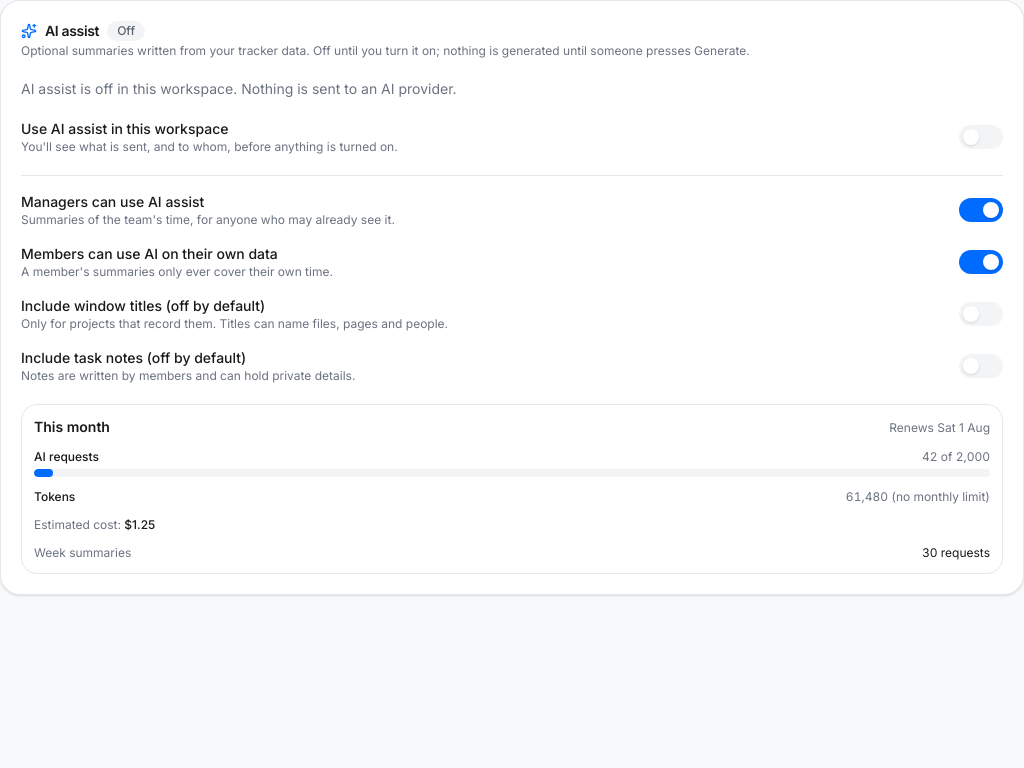
Test: turning AI assist on › saves nothing when the dialog is cancelled
Click the switch named "Use AI assist" in the row of "Use AI assist in this workspace" at (981, 137), box [959,125,1003,149]
(page scrolled)
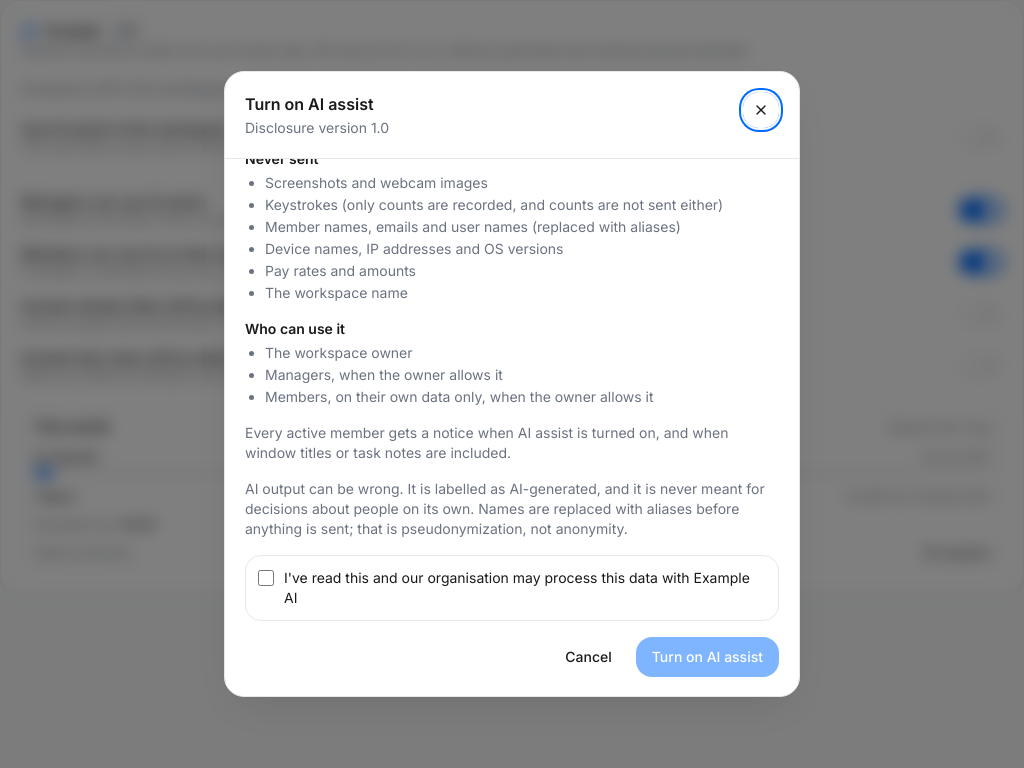
Click the button "Cancel" at (589, 657), box [549,637,628,677]
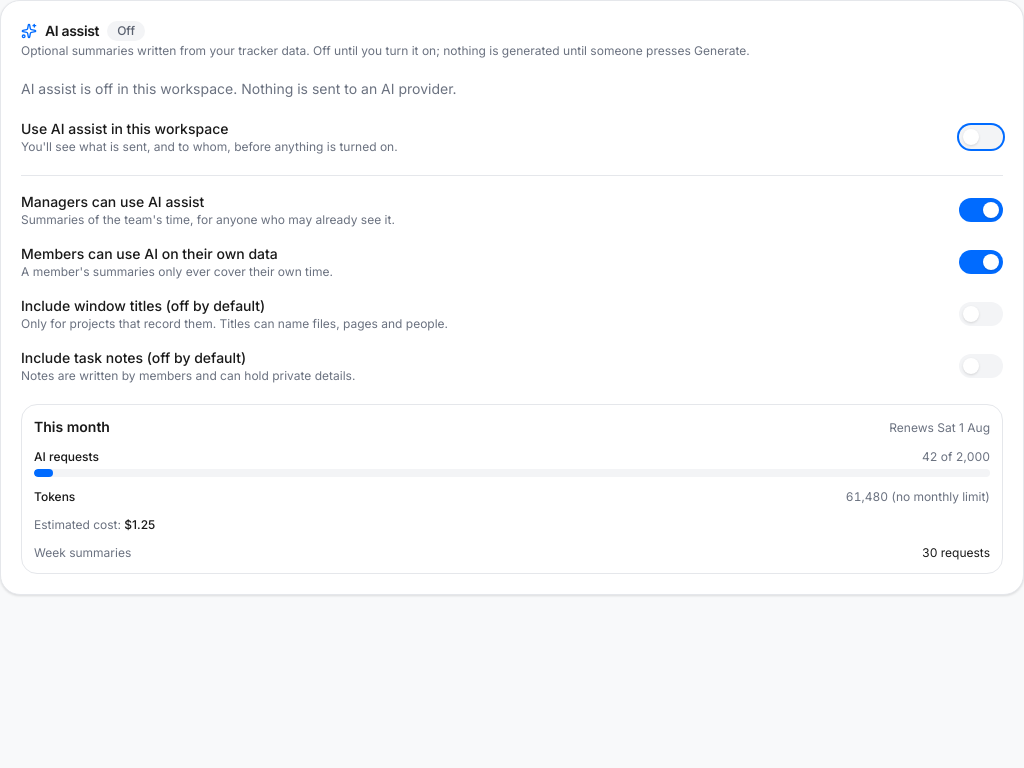
Now the dialog is gone
